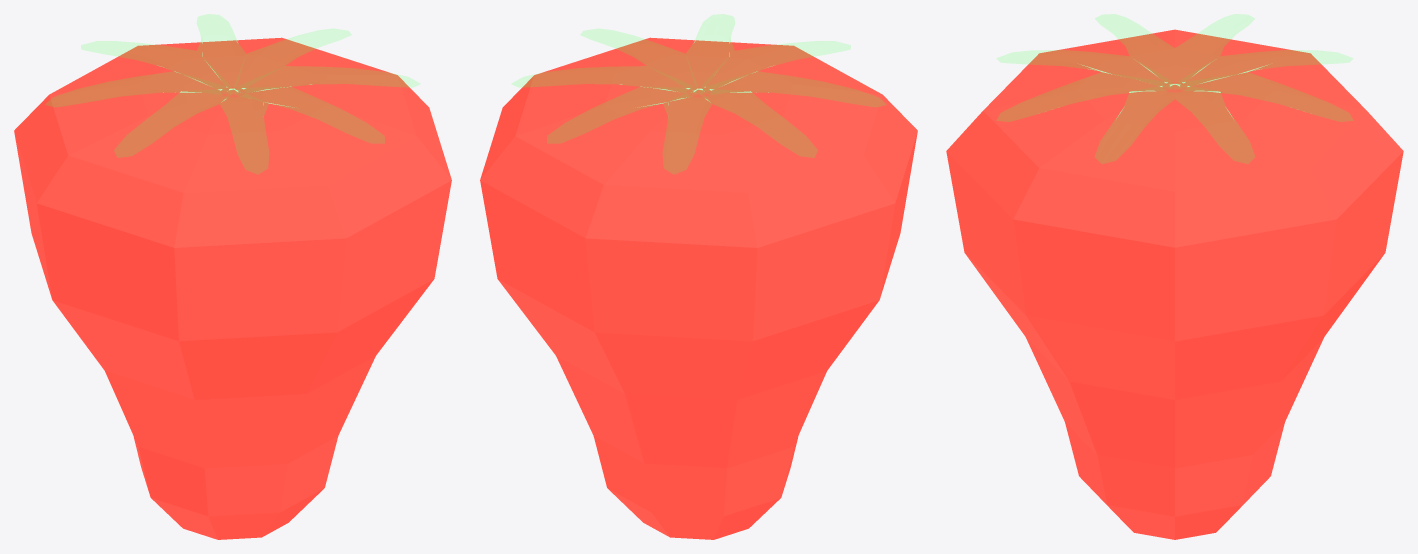
The model's file is EnemyAttack_Strawberry.fbx.
The picture shows the model from 3 angles, left to right: view 1: azimuth 30°, elevation 25°; view 2: azimuth 150°, elevation 25°; view 3: azimuth 270°, elevation 25°; orthographic projection.
Parts seen in each view (by area): view 1: Sphere.001, Sphere.002; view 2: Sphere.001, Sphere.002; view 3: Sphere.001, Sphere.002.
Boxes of the visible parts, x1,y1,x2,y2 form: Sphere.001: (14, 37, 451, 539); Sphere.002: (46, 14, 419, 173); Sphere.001: (480, 37, 917, 539); Sphere.002: (512, 14, 885, 173); Sphere.001: (946, 29, 1403, 539); Sphere.002: (997, 14, 1352, 163).
Size of the model in its own units: 111 by 124 by 111.
